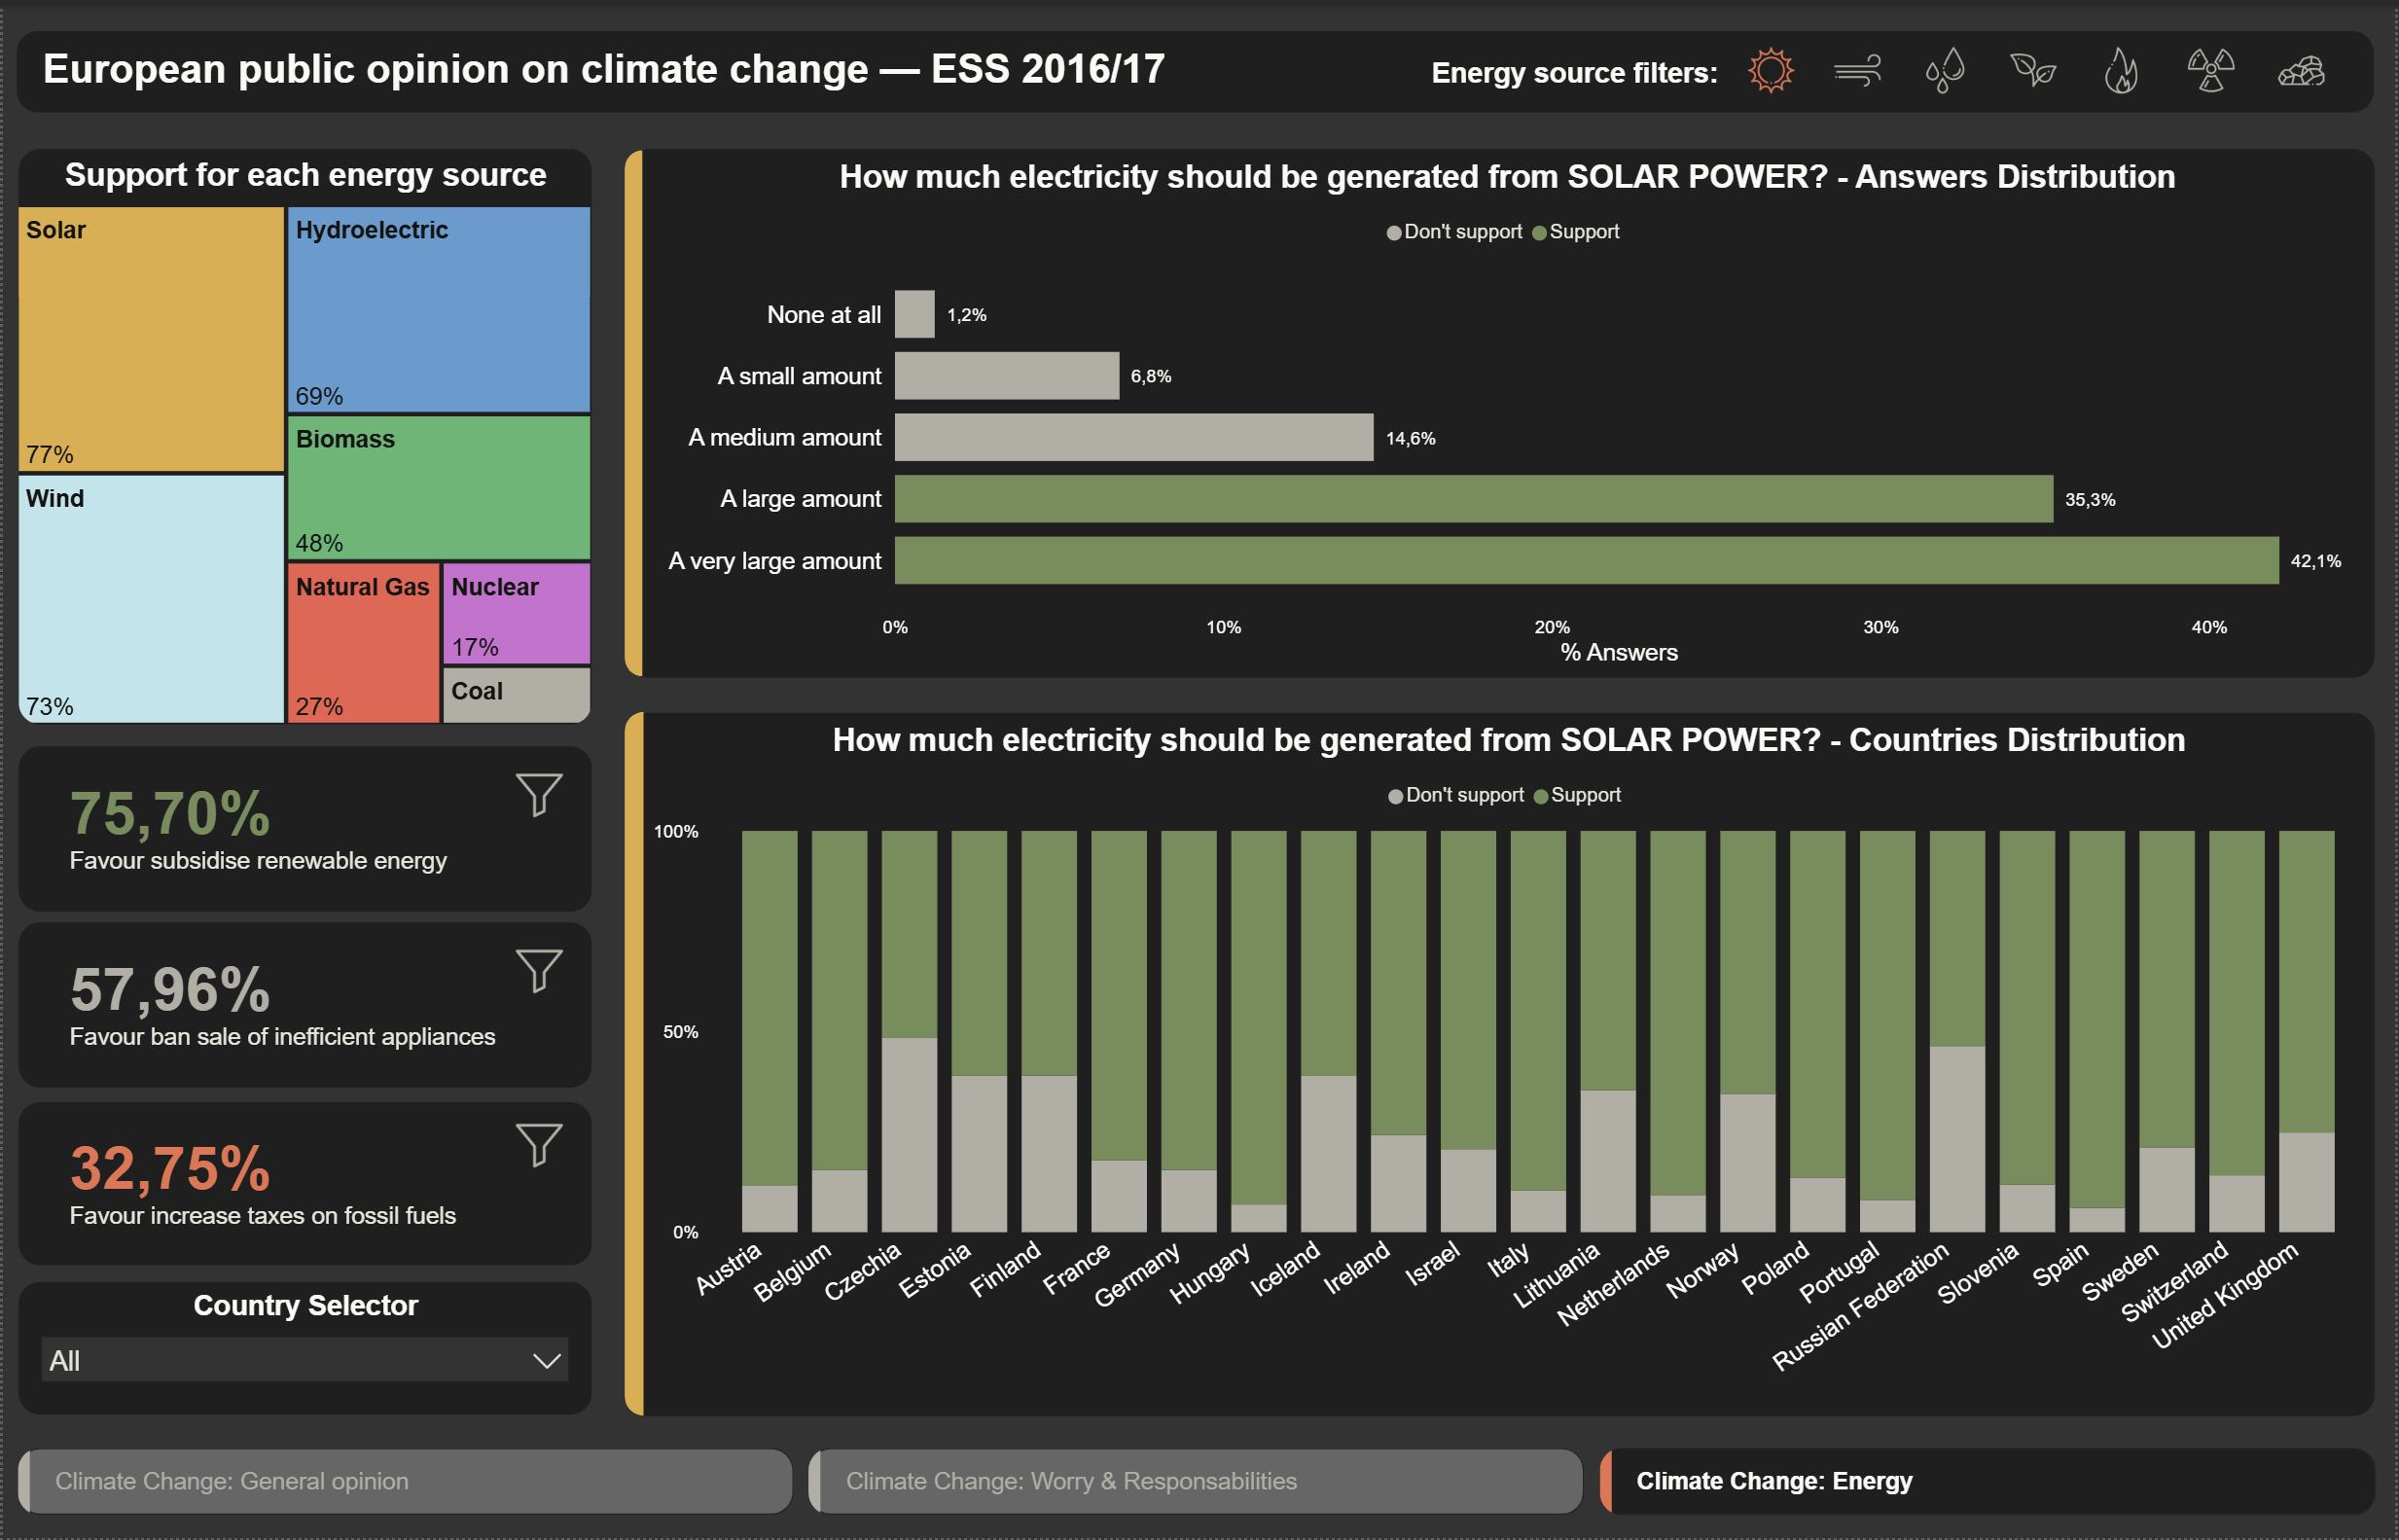

Layout of this report page (visuals, bound fields, positions):
{"tool":"powerbi","page":{"name":"Climate Change: Energy","canvas":[1600,1025],"ordinal":2},"visuals":[{"type":"treemap","title":"Support for each energy source","fields":{"Values":["_Measures.% Support Solar","_Measures.% Support Wind","_Measures.% Support Hydro","_Measures.% Support Biomass","_Measures.% Support Natural Gas","_Measures.% Support Nuclear","_Measures.% Support Coal"]},"box":[10,95.7,384.3,385.7],"z":0},{"type":"textbox","box":[8.9,16.7,1577.8,55.6],"z":1000},{"type":"cardVisual","fields":{"Data":["_Measures.% Favour Appliance Ban"]},"box":[10,612.9,384.3,111.4],"z":2000},{"type":"cardVisual","fields":{"Data":["_Measures.% Favour Fossil Fuel Tax"]},"box":[10,732.9,384.3,110],"z":3000},{"type":"pageNavigator","box":[10,964.3,1577.1,45.7],"z":4000},{"type":"slicer","title":"Country Selector","fields":{"Values":["CountriesList.Country"]},"box":[10,852.9,384.3,90],"z":5000},{"type":"cardVisual","fields":{"Data":["_Measures.% Favour Renewable Subsidies"]},"box":[10,494.3,384.3,111.4],"z":6000},{"type":"image","title":"Filter Inactive C","box":[1521.1,27.9,33,31],"z":8000},{"type":"image","title":"Filter Inactive N","box":[1461,27.9,33,31],"z":10000},{"type":"image","title":"Filter Inactive G","box":[1399.9,27.8,33,31],"z":12000},{"type":"image","title":"Filter Inactive B","box":[1341.1,28,33,31],"z":14000},{"type":"image","title":"Filter Inactive H","box":[1282.5,28,33,31],"z":16000},{"type":"image","title":"Filter Inactive W","box":[1223.4,28,33,31],"z":18000},{"type":"image","title":"Filter Active S","box":[1165.8,28,33,31],"z":21000},{"type":"hundredPercentStackedColumnChart","title":"How much electricity should be generated from SOLAR POWER? - Countries Distribution","fields":{"Y":["Sum(EnergyData.id)"],"Category":["EnergyData.Country"],"Series":["EnergyData.AnswerCathegory"]},"box":[416.7,471.7,1170,471.7],"z":22000},{"type":"shape","title":"Label","box":[416.4,471.8,12.7,470.9],"z":23000},{"type":"barChart","title":"How much electricity should be generated from SOLAR POWER? - Answers Distribution","fields":{"Y":["Sum(EnergyData.id)"],"Category":["EnergyData.AnswerLabel"],"Series":["EnergyData.AnswerCathegory"]},"box":[416.7,95,1170,355],"z":24000},{"type":"shape","title":"Label","box":[416.4,96.4,12.1,352.1],"z":25000},{"type":"image","title":"Filter Inactive 1","box":[341.5,512.1,33.6,31.8],"z":52000},{"type":"image","title":"Filter Inactive 2","box":[341.5,630,33.6,31.8],"z":56000},{"type":"image","title":"Filter Inactive 3","box":[341.5,747.2,33.6,31.8],"z":60000}]}

Visuals, with their boxes in screenshot pixels (x1, y1, x2, y2), scaled from the page's 1600x1025 canvas onto the 2399x1540 screenshot:
"Support for each energy source" treemap: 15, 144, 591, 723
textbox: 14, 25, 2380, 109
cardVisual - _Measures.% Favour Appliance Ban: 15, 921, 591, 1089
cardVisual - _Measures.% Favour Fossil Fuel Tax: 15, 1101, 591, 1267
pageNavigator: 15, 1449, 2380, 1518
"Country Selector" slicer: 15, 1281, 591, 1416
cardVisual - _Measures.% Favour Renewable Subsidies: 15, 742, 591, 910
"Filter Inactive C" image: 2280, 42, 2330, 89
"Filter Inactive N" image: 2191, 42, 2240, 89
"Filter Inactive G" image: 2099, 42, 2148, 89
"Filter Inactive B" image: 2011, 42, 2060, 89
"Filter Inactive H" image: 1923, 42, 1973, 89
"Filter Inactive W" image: 1835, 42, 1883, 89
"Filter Active S" image: 1748, 42, 1798, 89
"How much electricity should be generated from SOLAR POWER? - Countries Distribution" hundredPercentStackedColumnChart: 625, 708, 2380, 1417
"Label" shape: 625, 709, 643, 1416
"How much electricity should be generated from SOLAR POWER? - Answers Distribution" barChart: 625, 143, 2380, 676
"Label" shape: 625, 145, 642, 674
"Filter Inactive 1" image: 512, 770, 562, 817
"Filter Inactive 2" image: 512, 947, 562, 994
"Filter Inactive 3" image: 512, 1123, 562, 1170
